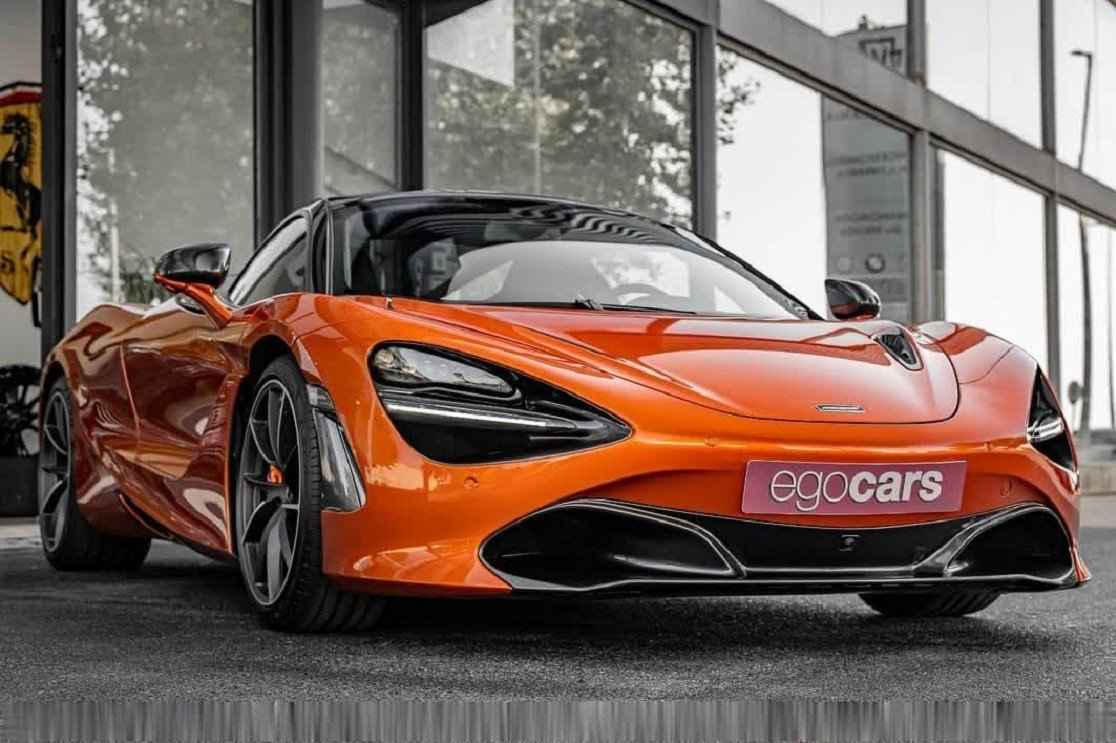other: (20, 195, 1098, 632)
